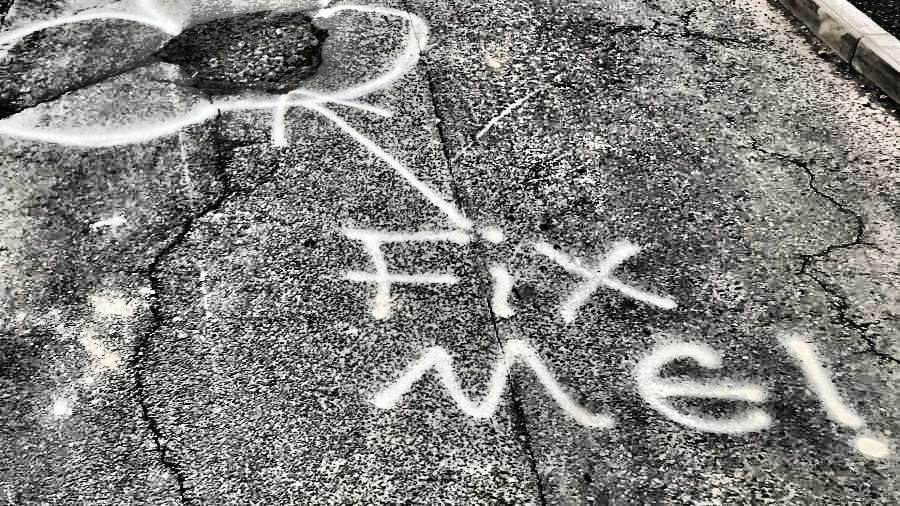pothole: (164, 12, 329, 99)
